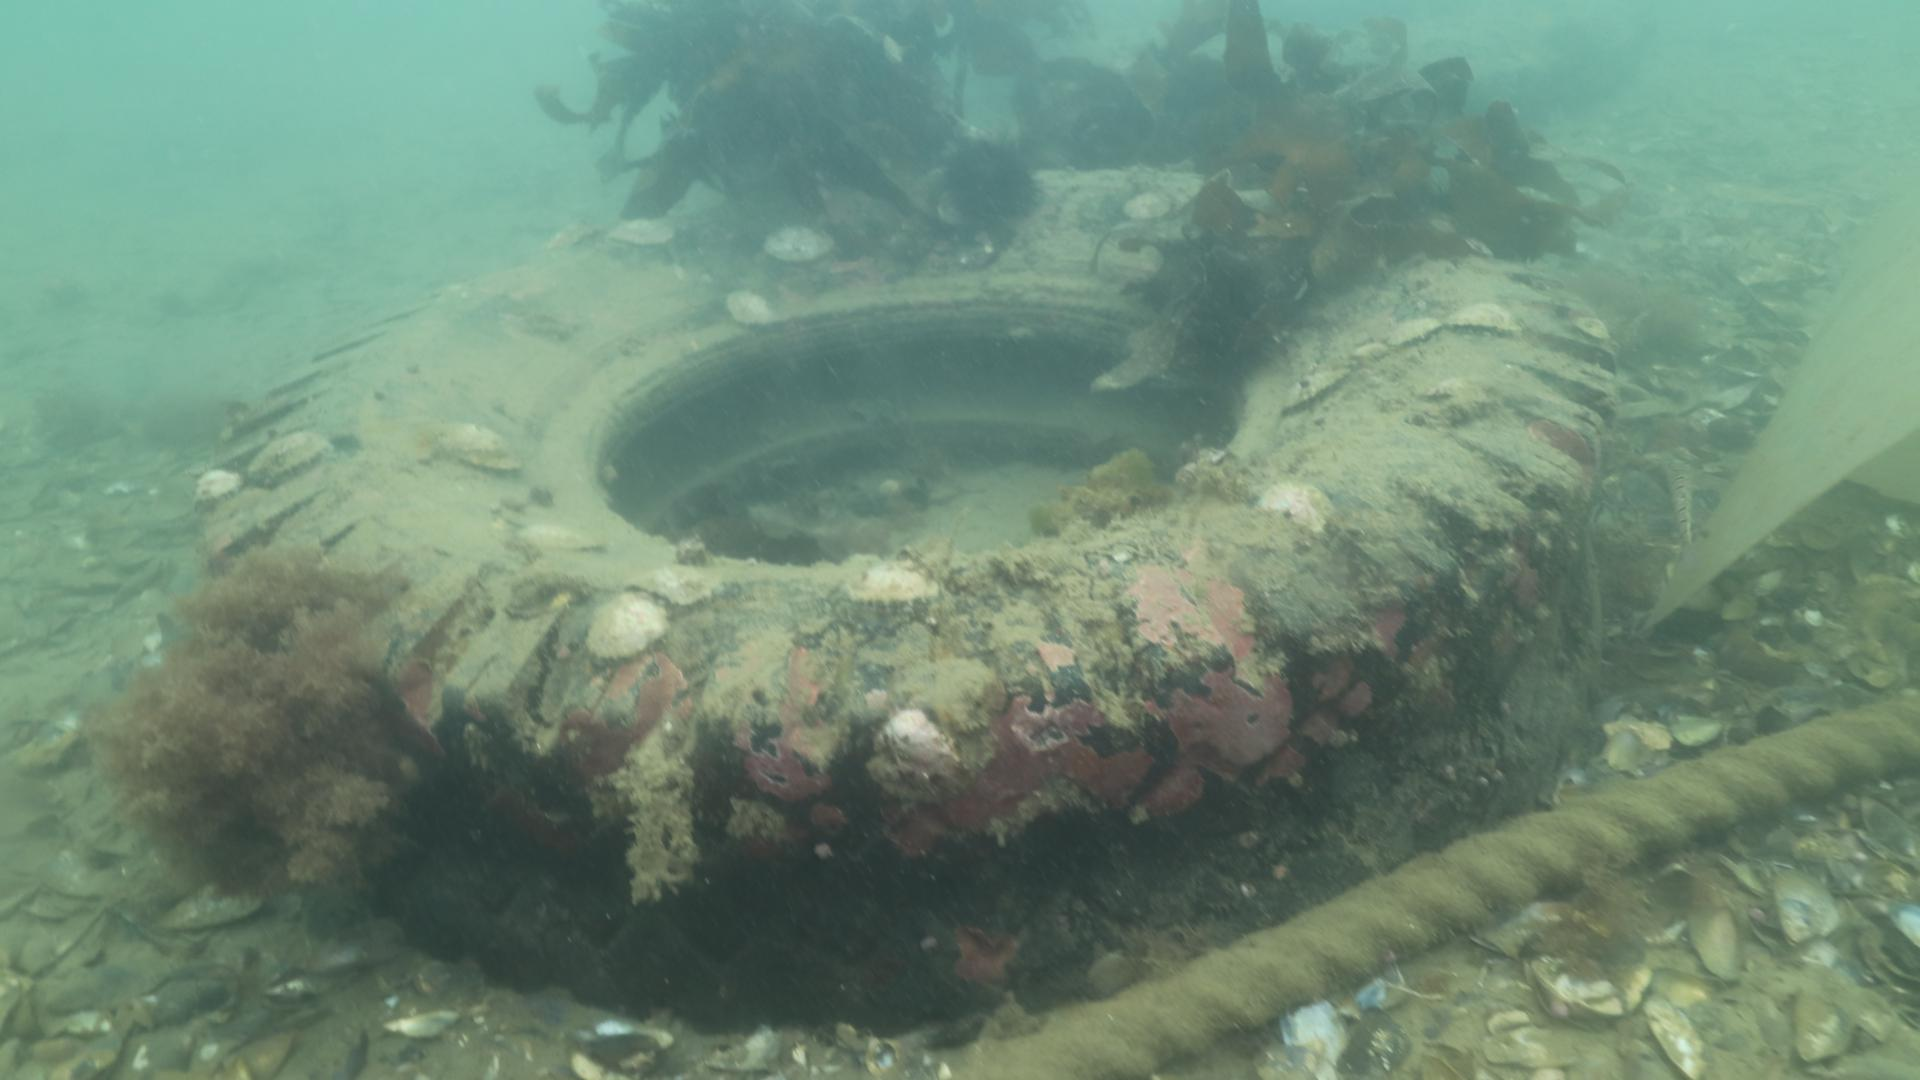rope: (967, 690, 1920, 1080)
tire: (193, 166, 1619, 1040)
